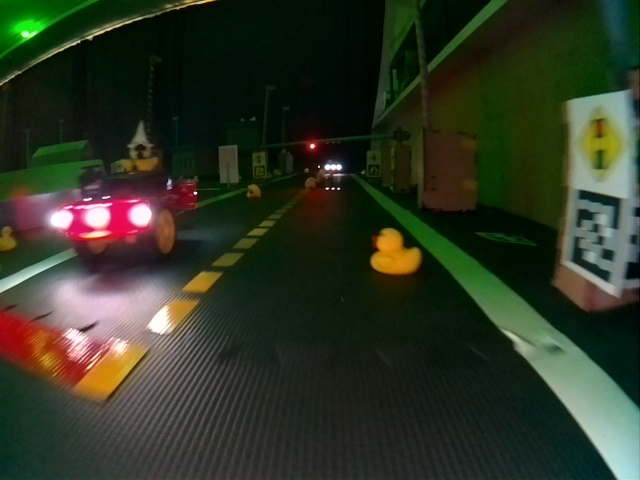Duckie: (371, 229, 421, 275), (0, 226, 15, 250), (247, 185, 260, 198), (305, 177, 315, 187)
Duckiebot: (54, 170, 198, 257), (324, 160, 342, 172)
Intersection sign: (367, 152, 380, 162)
QR code: (564, 187, 622, 287), (477, 232, 533, 246), (368, 164, 380, 176), (254, 166, 265, 177)
Signal sign: (571, 105, 625, 183), (253, 154, 263, 164)
Traffic light: (308, 141, 317, 151)
